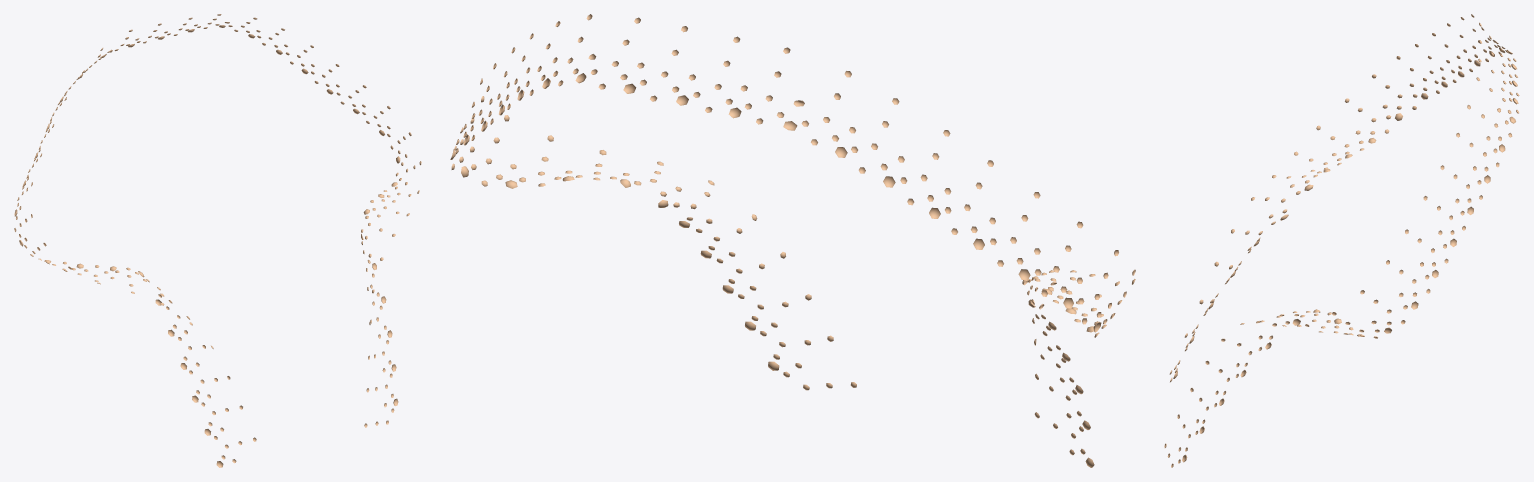
Rendered from hood-inside-crystals.glb.
3 views of the same model, side by side, from view 1: azimuth 30°, elevation 25°; view 2: azimuth 150°, elevation 25°; view 3: azimuth 270°, elevation 25° (orthographic). The views are drawn at different scales.
Parts seen in each view (by area): view 1: Crystals_hood_front; view 2: Crystals_hood_front; view 3: Crystals_hood_front.
Part boxes in pixels (bbox=[...]): Crystals_hood_front: bbox=[14, 14, 421, 467]; Crystals_hood_front: bbox=[450, 14, 1135, 467]; Crystals_hood_front: bbox=[1164, 14, 1519, 467].
Size of the model in its own units: 0.9795 by 0.8225 by 0.6971.
